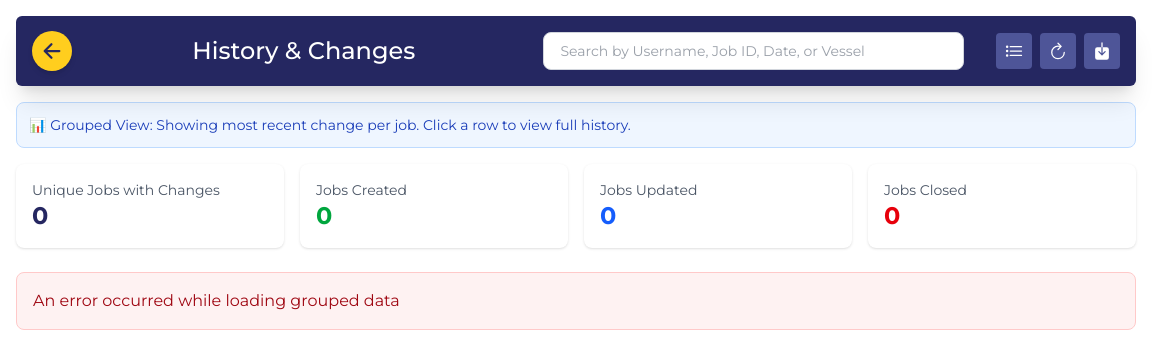
ViewHistory Integration Tests › toggles view mode between grouped and flat
Expected: the text "Grouped View: Showing most recent change per job" is shown, [29,116,631,134]
# Find and click the view mode toggle button
Click the button titled "Switch to Flat View".
click(1014, 51)  # box [996,33,1032,69]
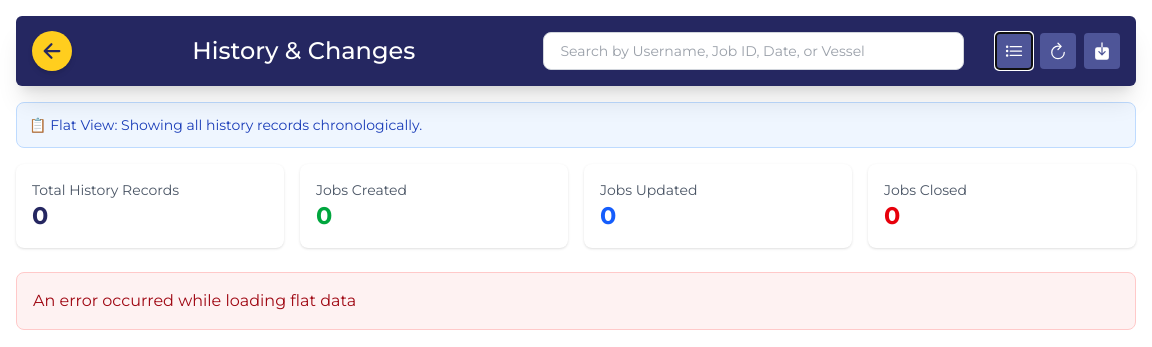
Expected: the text "📋 Flat View: Showing all history records chronologically." is shown, [29,116,422,134]
